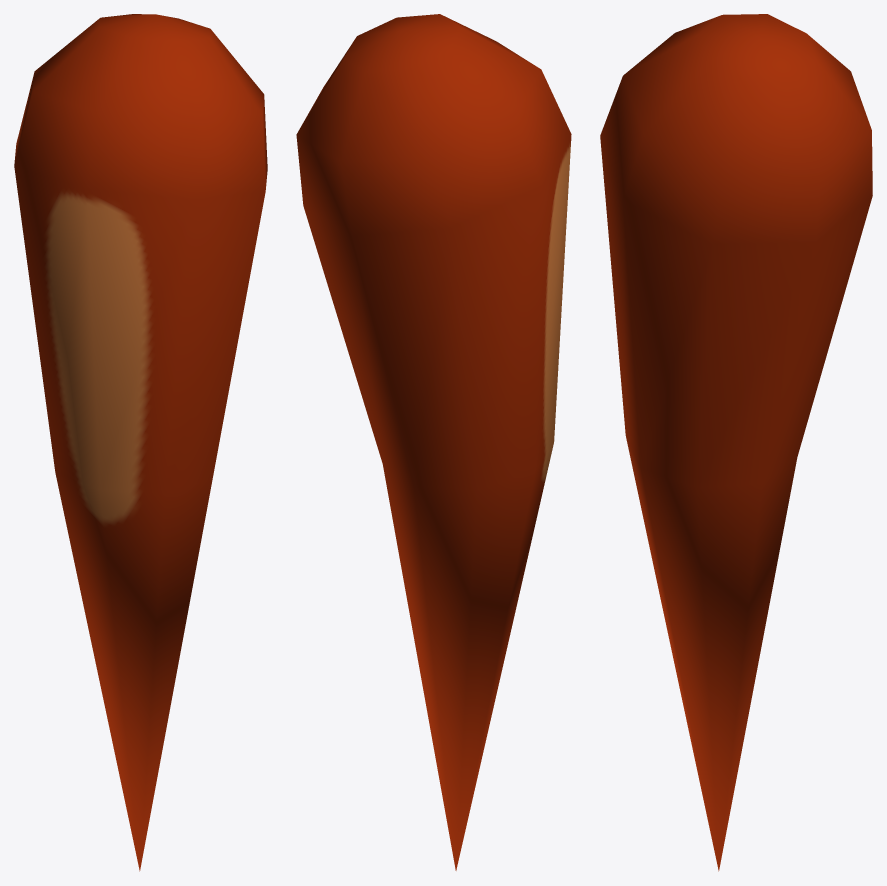
File: Spider_002_Foot_002_R.fbx
3 renders of one model, left to right at view 1: azimuth 30°, elevation 25°; view 2: azimuth 150°, elevation 25°; view 3: azimuth 270°, elevation 25°, orthographic. The views are drawn at different scales.
Parts seen in each view (by area): view 1: Foot_002_R; view 2: Foot_002_R; view 3: Foot_002_R.
Boxes of the visible parts, left/top/right/bottom form: Foot_002_R: left=14, top=14, right=267, bottom=871; Foot_002_R: left=296, top=14, right=571, bottom=870; Foot_002_R: left=600, top=14, right=872, bottom=871.
Bounding box in the file's own units: 5.11 × 17.51 × 5.07.
